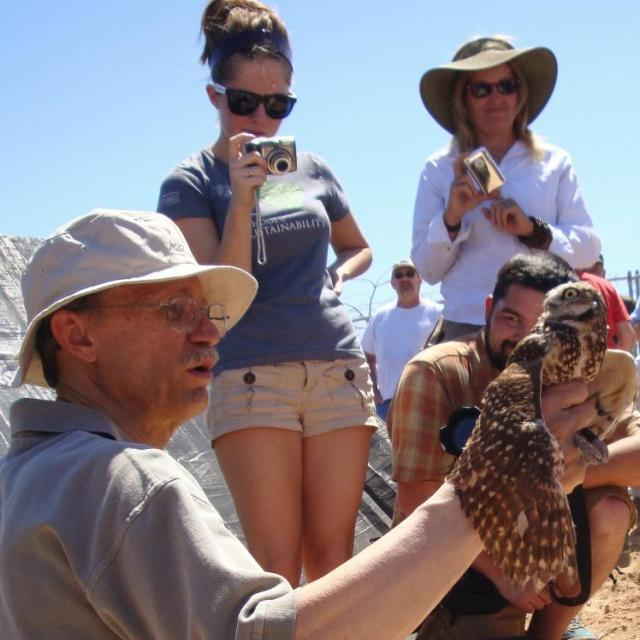Glasses: (75, 290, 232, 338), (212, 78, 298, 122), (462, 76, 520, 98), (392, 266, 416, 280)
